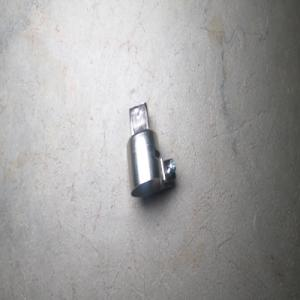MetalPart: (126, 100, 176, 198)
